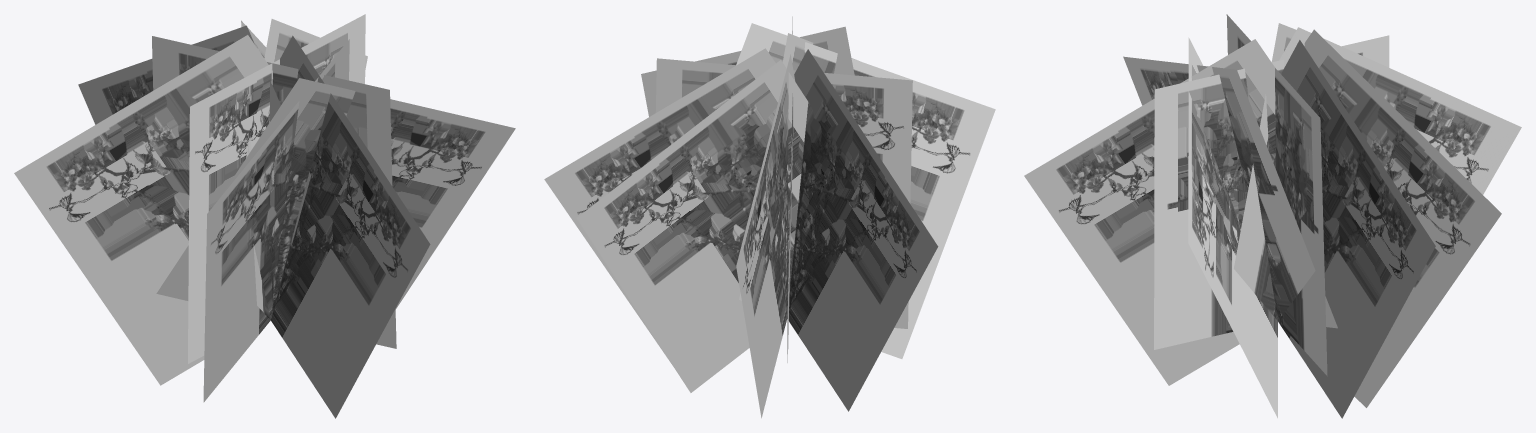
File: winter bush1.FBX
3 renders of one model, left to right at view 1: azimuth 30°, elevation 25°; view 2: azimuth 150°, elevation 25°; view 3: azimuth 270°, elevation 25°, orthographic. The views are drawn at different scales.
Visible parts, largest first — view 1: winter bush1; view 2: winter bush1; view 3: winter bush1.
Part boxes in pixels (bbox=[...]): winter bush1: bbox=[14, 14, 515, 418]; winter bush1: bbox=[544, 16, 995, 418]; winter bush1: bbox=[1024, 14, 1521, 418].
Size of the model in its own units: 32.61 by 26.84 by 34.84.
